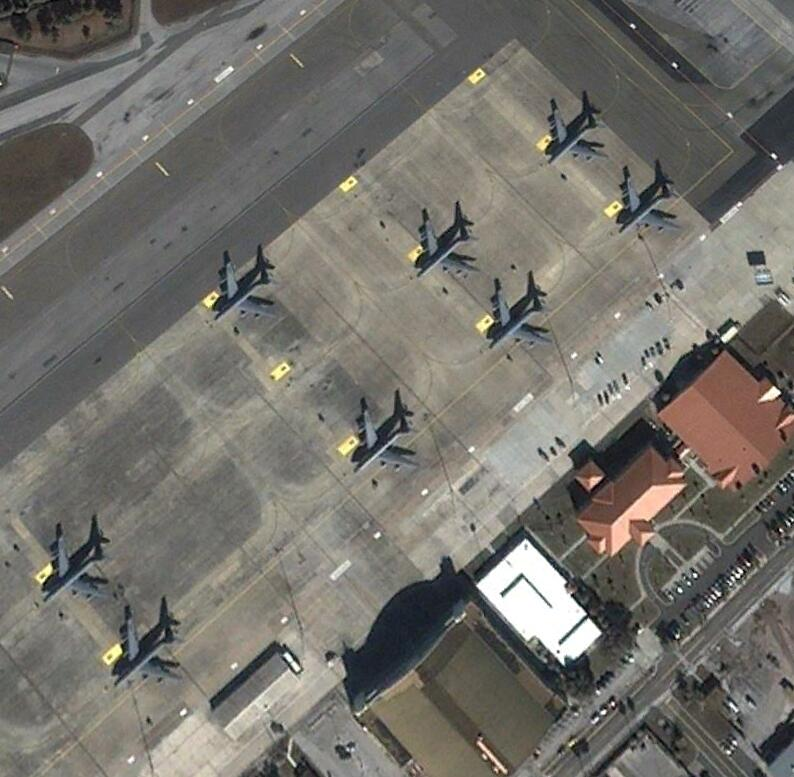A14: (352, 399, 423, 479), (108, 616, 178, 688), (44, 532, 111, 607), (410, 210, 475, 282), (490, 288, 555, 355), (546, 98, 606, 167), (216, 257, 275, 325), (621, 174, 684, 237)
